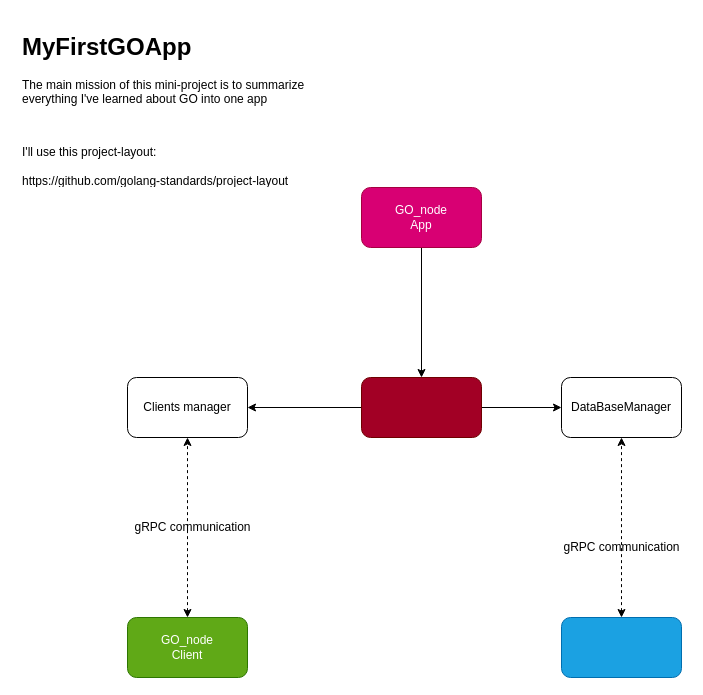
The diagram is 703 pixels wide and 695 high, and some of its shapes have lost their labels. The box of each missing label's shape, as (x1, y1, x2, y2) in pixels:
GO_node StatisticsManager: (560, 616, 682, 678)
Server: (360, 376, 482, 438)
